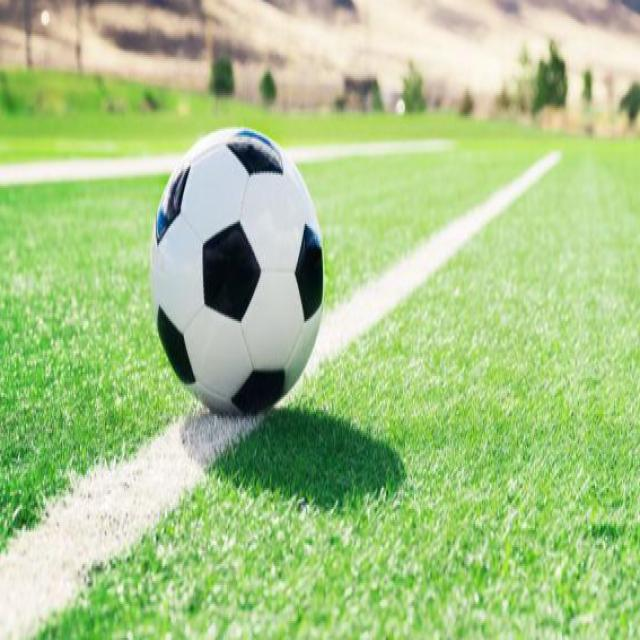football: (144, 86, 350, 448)
